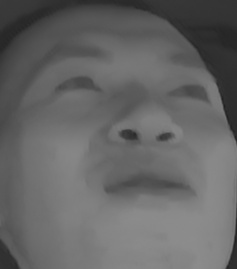eye: (166, 77, 215, 105), (53, 70, 103, 97)
mouth: (102, 156, 198, 211)
